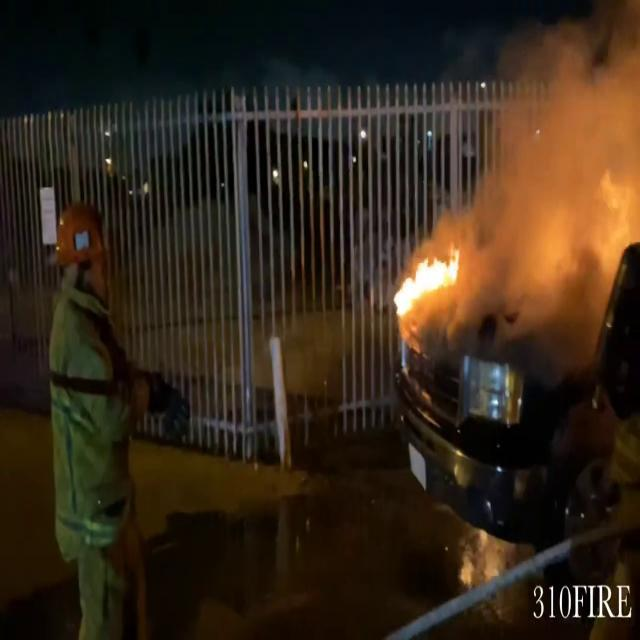Fire: (391, 236, 463, 324)
Smoke: (466, 1, 640, 323)
